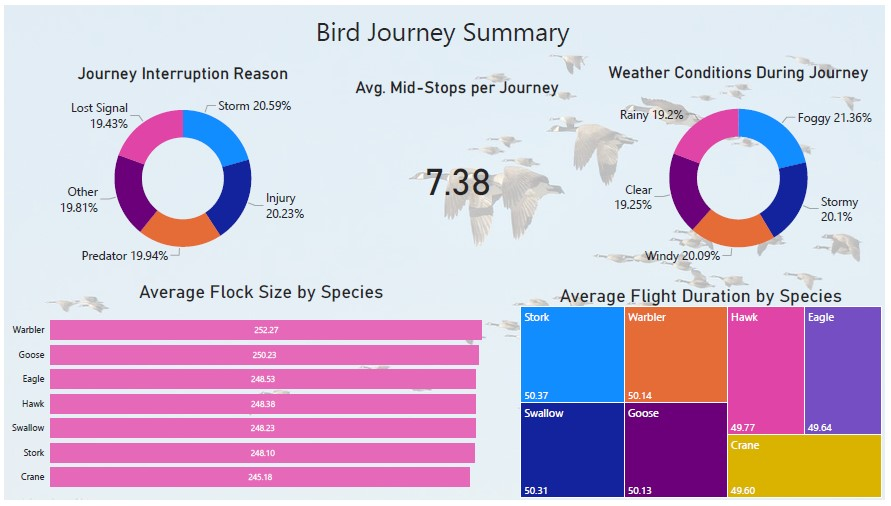

The dashboard page shown, as its layout file describes it:
{"tool":"powerbi","page":{"name":"Journey Summary","canvas":[1280,720],"ordinal":3},"visuals":[{"type":"textbox","box":[9.9,0,1253.6,84.7],"z":0},{"type":"donutChart","title":"Weather Conditions During Journey","fields":{"Category":["bird_migration_data.Weather_Condition"],"Y":["CountNonNull(bird_migration_data.Bird_ID)"]},"box":[854.8,84.2,425.2,306.8],"z":1},{"type":"card","title":"Avg. Mid-Stops per Journey","fields":{"Values":["Avg(bird_migration_data.Rest_Stops)"]},"box":[487.1,84.7,343.1,288],"z":2},{"type":"clusteredBarChart","title":"Average Flock Size by Species","fields":{"Category":["bird_migration_data.Species"],"Y":["Avg(bird_migration_data.Flock_Size)"]},"box":[0,391.1,746.8,328.9],"z":3},{"type":"donutChart","title":"Journey Interruption Reason","fields":{"Category":["bird_migration_data.Interrupt_Reason_Clean"],"Y":["CountNonNull(bird_migration_data.Bird_ID)"]},"box":[55.1,84.7,409.4,306.4],"z":4},{"type":"treemap","title":"Average Flight Duration by Species","fields":{"Group":["bird_migration_data.Species"],"Values":["Avg(bird_migration_data.Flight_Duration_hours)"]},"box":[746.3,391,533.7,329.6],"z":5}]}

Visuals, with their boxes in screenshot pixels (x1, y1, x2, y2), scaled from the page's 1280x720 canvas onto the 891x506 screenshot:
textbox: [x1=7, y1=0, x2=880, y2=60]
"Weather Conditions During Journey" donutChart: [x1=595, y1=59, x2=890, y2=275]
"Avg. Mid-Stops per Journey" card: [x1=339, y1=60, x2=578, y2=262]
"Average Flock Size by Species" clusteredBarChart: [x1=0, y1=275, x2=520, y2=505]
"Journey Interruption Reason" donutChart: [x1=38, y1=60, x2=323, y2=275]
"Average Flight Duration by Species" treemap: [x1=519, y1=275, x2=890, y2=505]
